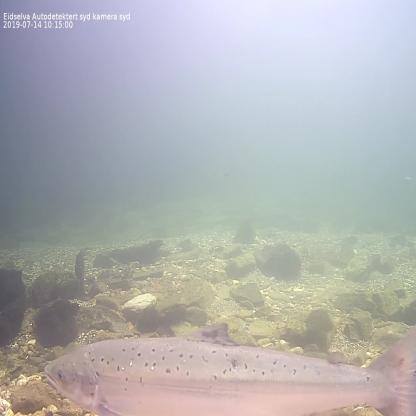salmon: (41, 316, 416, 415)
